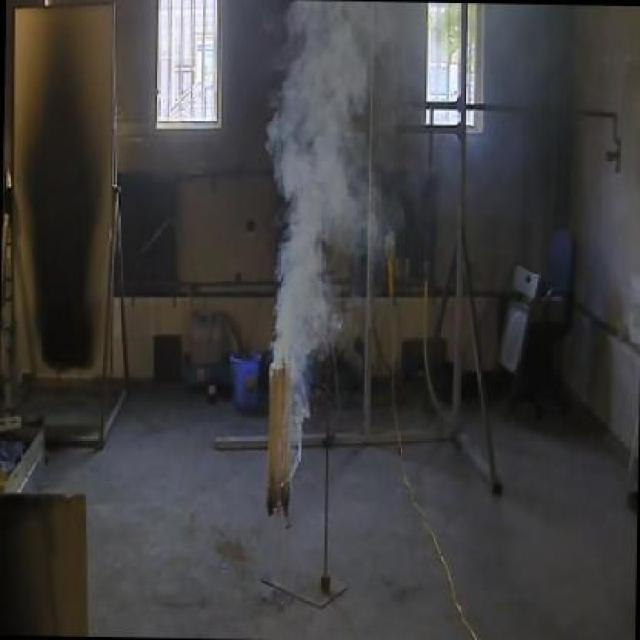fire: (256, 0, 389, 354)
